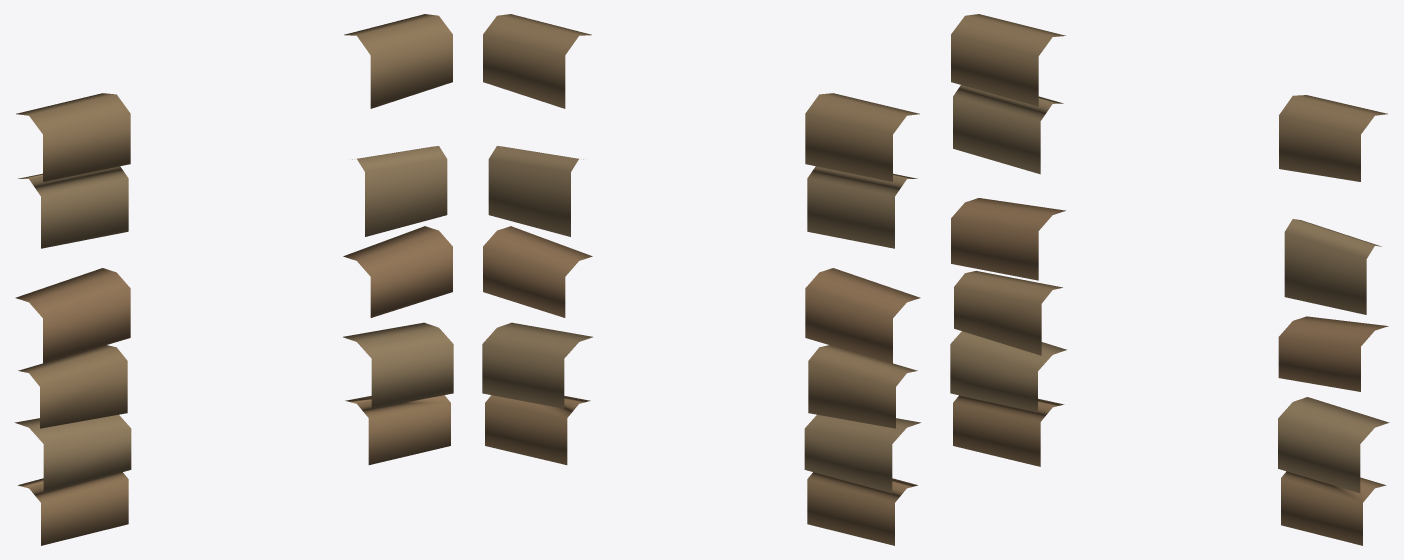
File: rpgpp_av_wall_01_3x3_door_a.gltf
3 renders of one model, left to right at view 1: azimuth 30°, elevation 25°; view 2: azimuth 150°, elevation 25°; view 3: azimuth 330°, elevation 25°, orthographic.
Parts seen in each view (by area): view 1: rpgpp_av_wall_01_3x3_door_a; view 2: rpgpp_av_wall_01_3x3_door_a; view 3: rpgpp_av_wall_01_3x3_door_a.
Boxes of the visible parts, bbox=[...] form: rpgpp_av_wall_01_3x3_door_a: bbox=[15, 14, 453, 545]; rpgpp_av_wall_01_3x3_door_a: bbox=[482, 14, 920, 545]; rpgpp_av_wall_01_3x3_door_a: bbox=[950, 14, 1389, 545].
Bounding box in the file's own units: 0.03 × 0.03 × 0.00374.
1 material, 1 textured.
